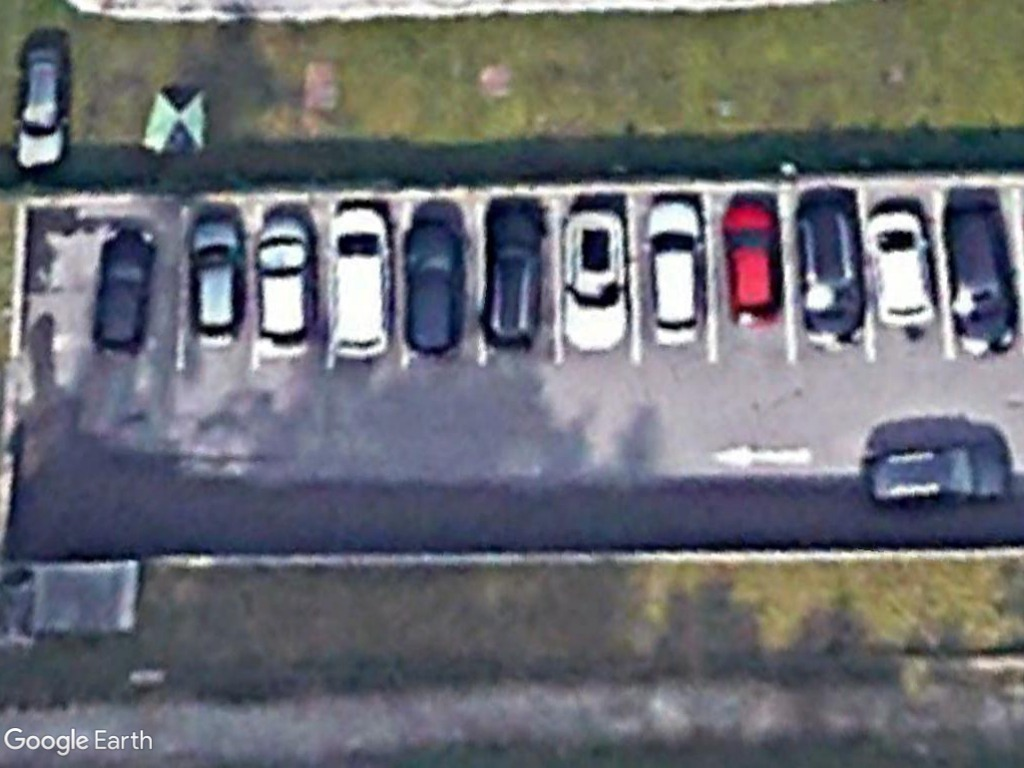car: (939, 198, 1018, 362), (787, 197, 864, 353), (555, 204, 633, 356), (861, 436, 1009, 516), (322, 204, 394, 366), (477, 198, 552, 353), (638, 192, 709, 353), (861, 202, 939, 338), (398, 211, 468, 360), (714, 197, 793, 329), (86, 220, 159, 359), (251, 207, 319, 353), (5, 35, 75, 176), (185, 205, 249, 354)
